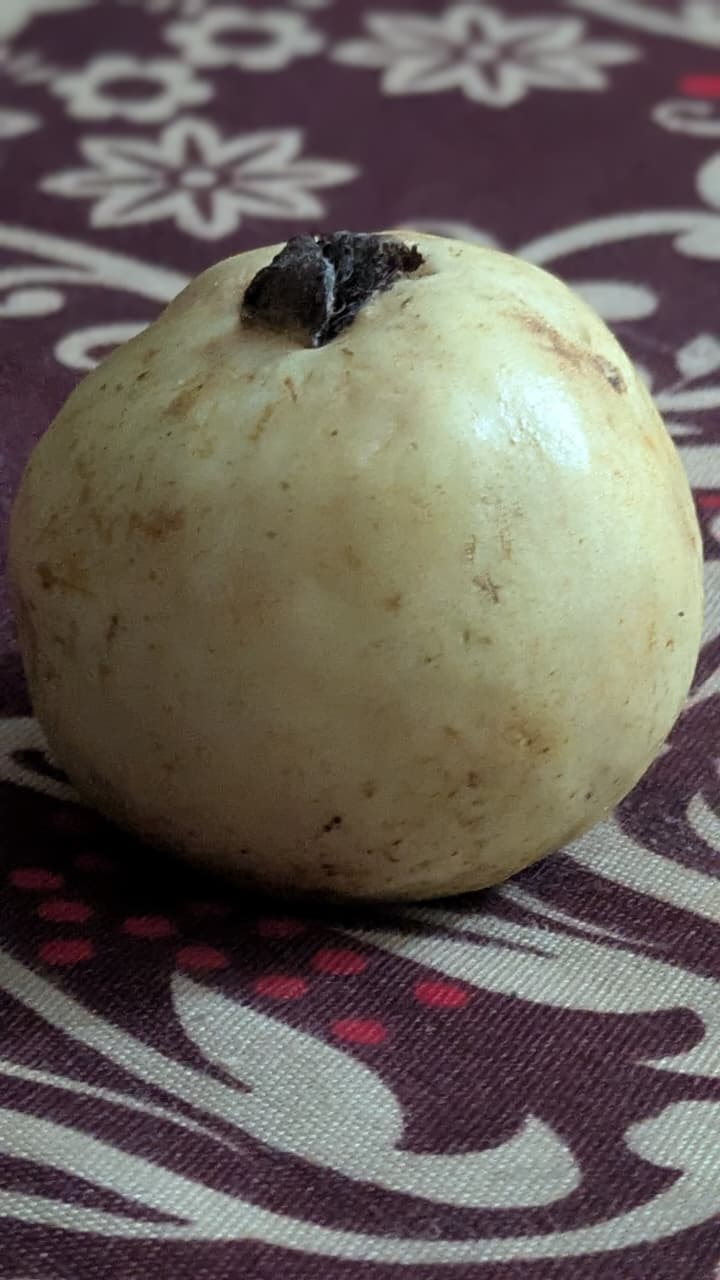guava: (71, 258, 695, 1130)
